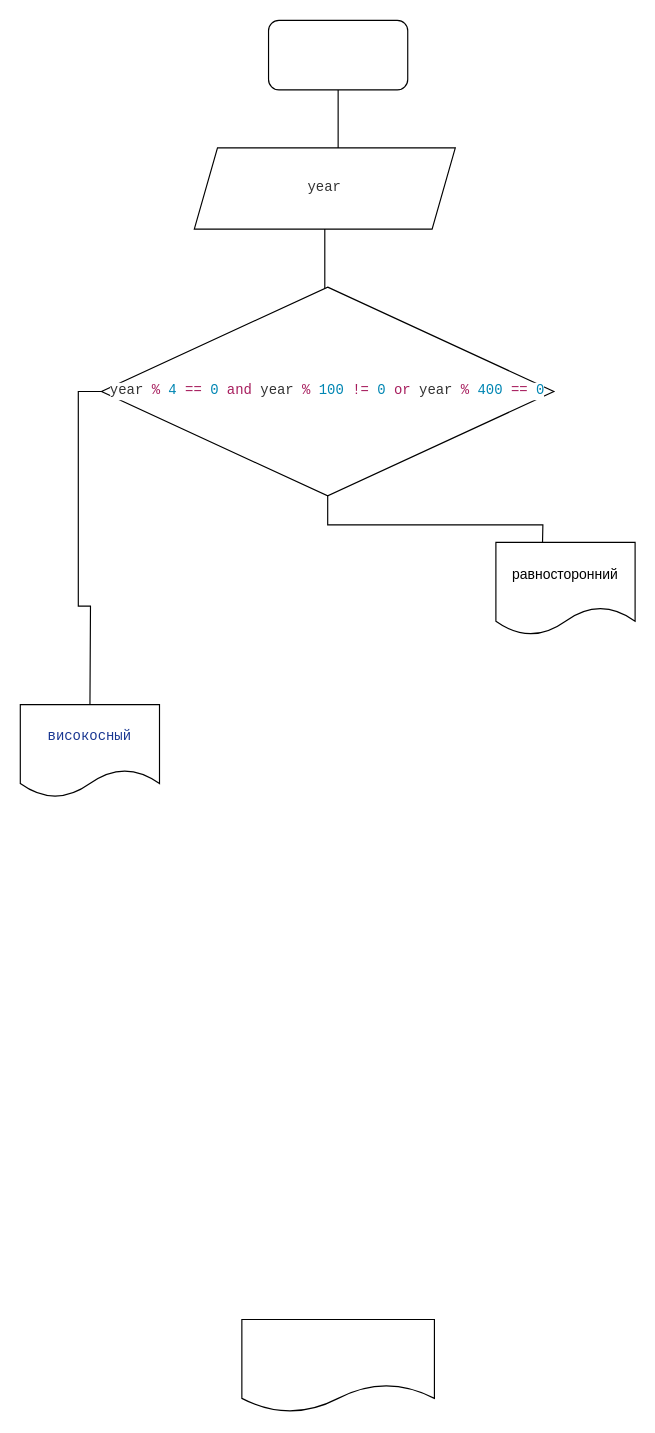
Image size: 655x1433. Some labels were removed from this diagram. Each missing label, with the centre of its shape:
"number" belongs at point (337, 1365).
"начало" belongs at point (337, 54).
